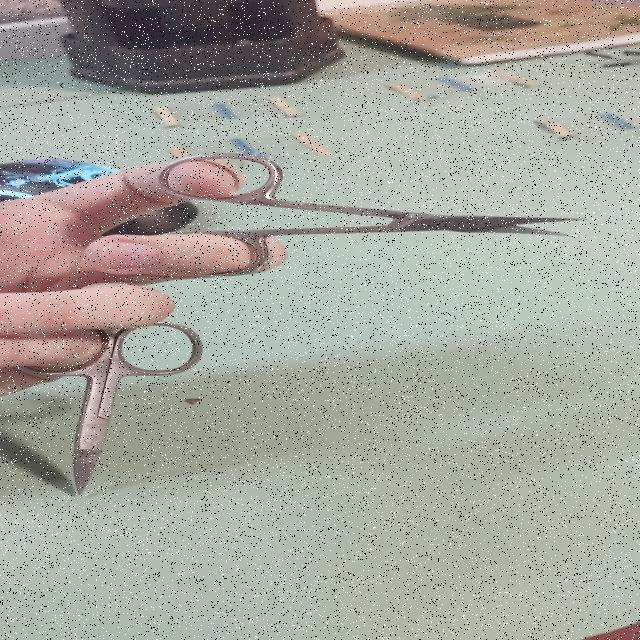scissors: (138, 151, 592, 279), (9, 319, 214, 500)
